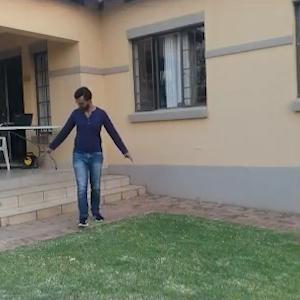land: (43, 82, 137, 237)
